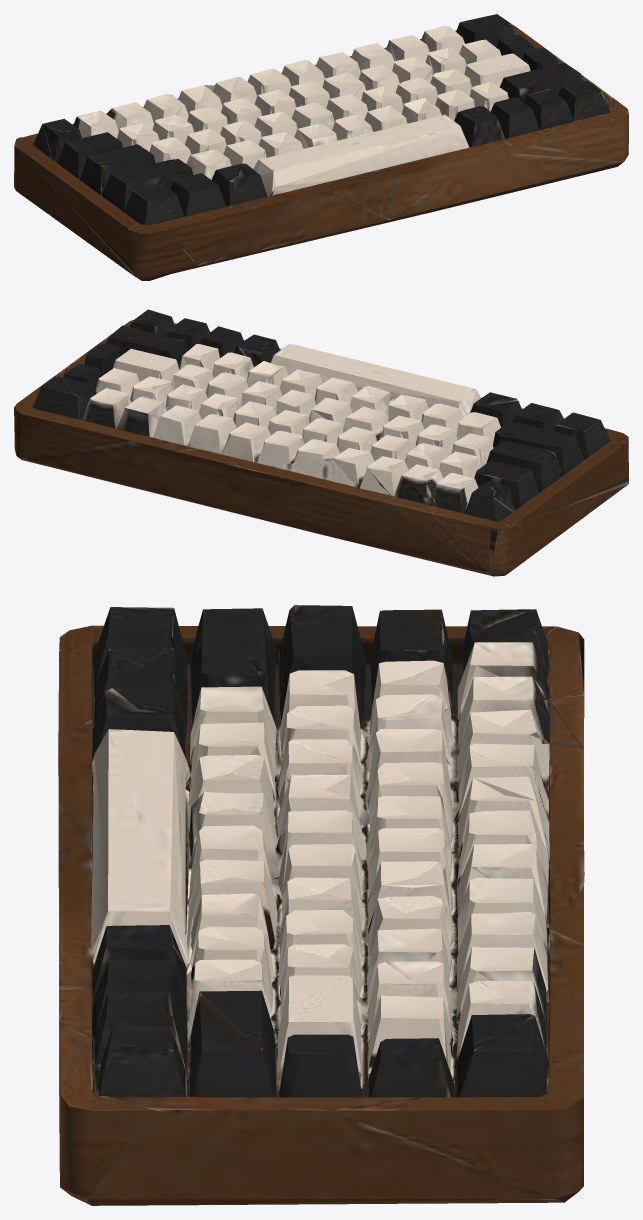
Rendered from keyboard.glb.
The picture shows the model from 3 angles, top to bottom: view 1: azimuth 30°, elevation 25°; view 2: azimuth 150°, elevation 25°; view 3: azimuth 270°, elevation 25°; orthographic projection. The views are drawn at different scales.
Parts seen in each view (by area): view 1: output_unwrapped; view 2: output_unwrapped; view 3: output_unwrapped.
Boxes of the visible parts, box(x1,y1,x2,y2) form: output_unwrapped: box(14, 14, 628, 280); output_unwrapped: box(14, 309, 628, 576); output_unwrapped: box(58, 605, 584, 1205).
Size of the model in its own units: 1.9 by 0.2609 by 0.8712.
Materials: 1 (1 with a texture image).
